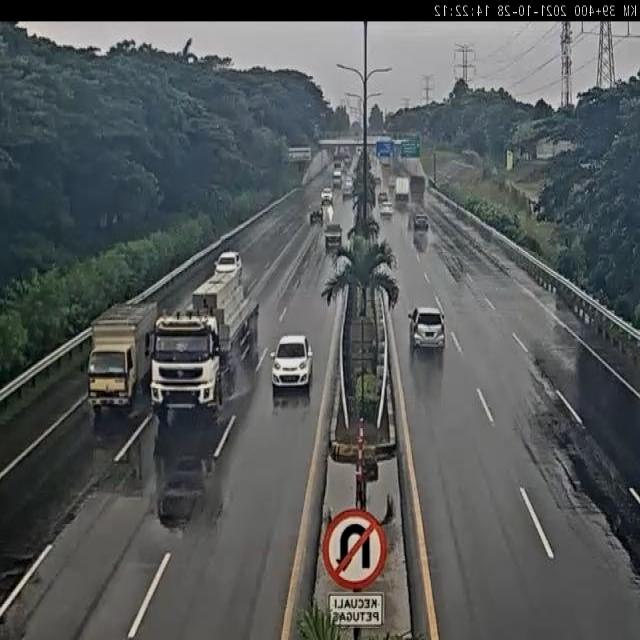Car: (270, 334, 314, 392), (408, 306, 446, 352), (214, 250, 242, 275), (324, 222, 343, 246), (413, 214, 429, 232), (379, 201, 393, 219), (321, 186, 333, 204), (341, 183, 353, 200), (310, 209, 322, 225), (378, 192, 388, 206), (344, 175, 354, 186)
Truck: (144, 269, 260, 411), (78, 300, 161, 414), (410, 174, 428, 204), (395, 177, 410, 209)
